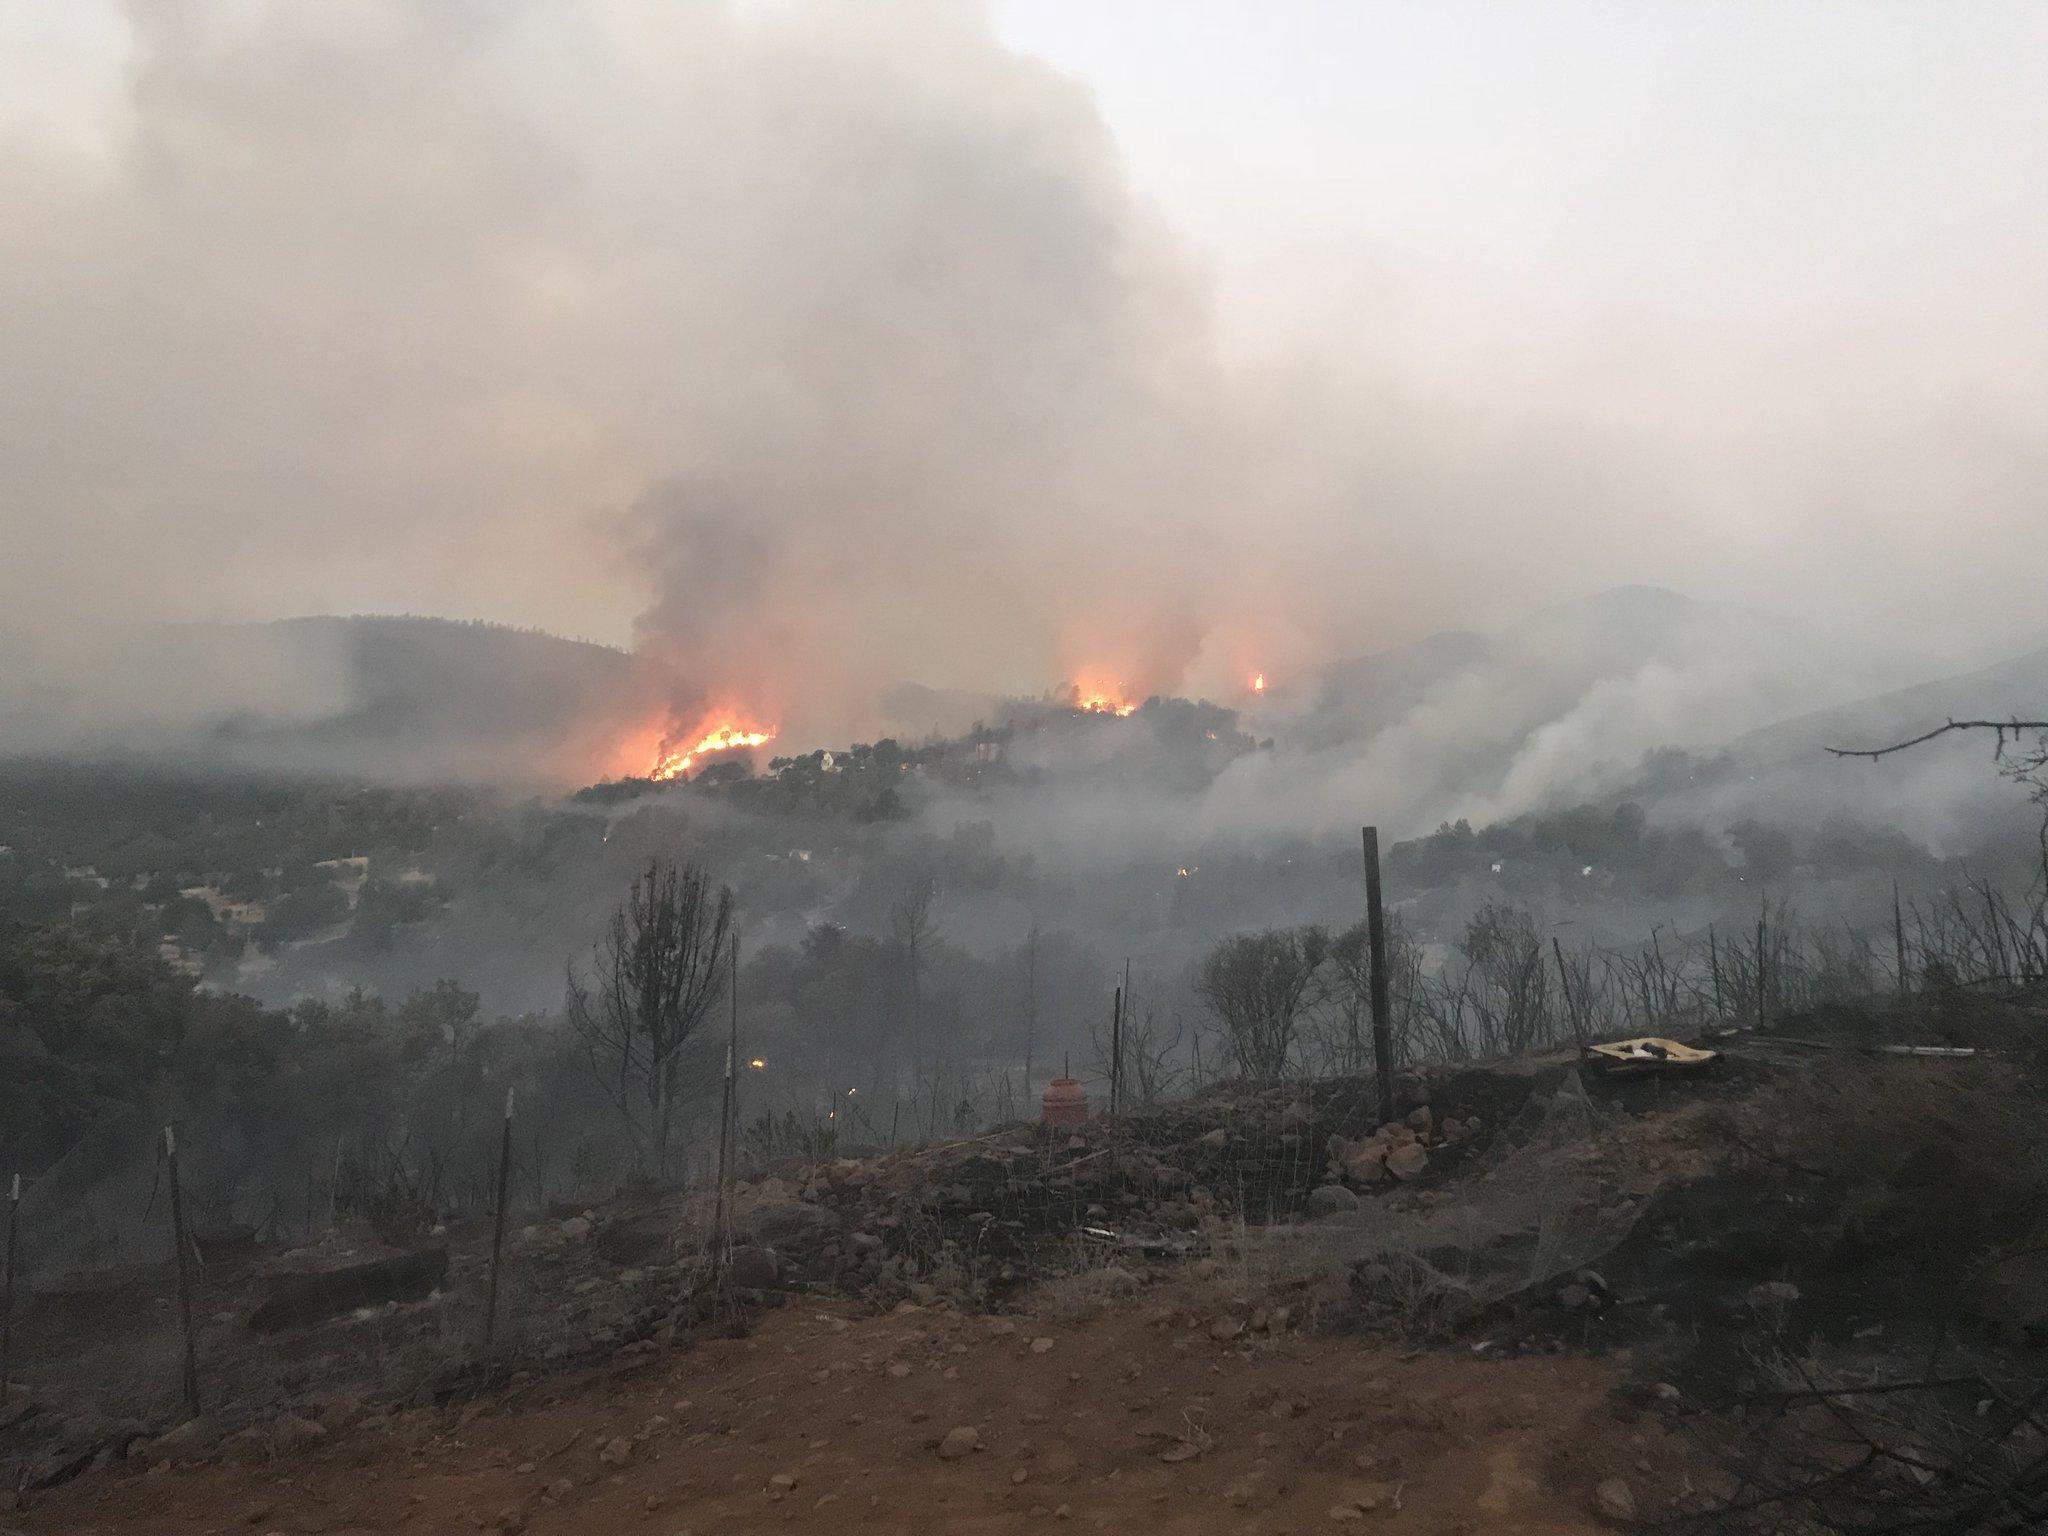Fire: (643, 708, 779, 795), (1071, 682, 1155, 733)
